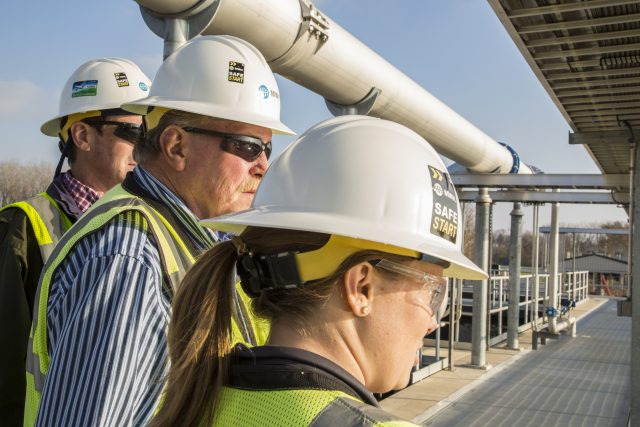epi: (199, 111, 497, 427), (123, 33, 294, 320), (3, 55, 150, 374)
